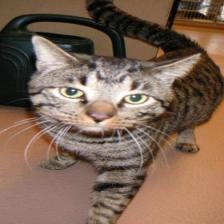cat: (31, 34, 205, 129)
